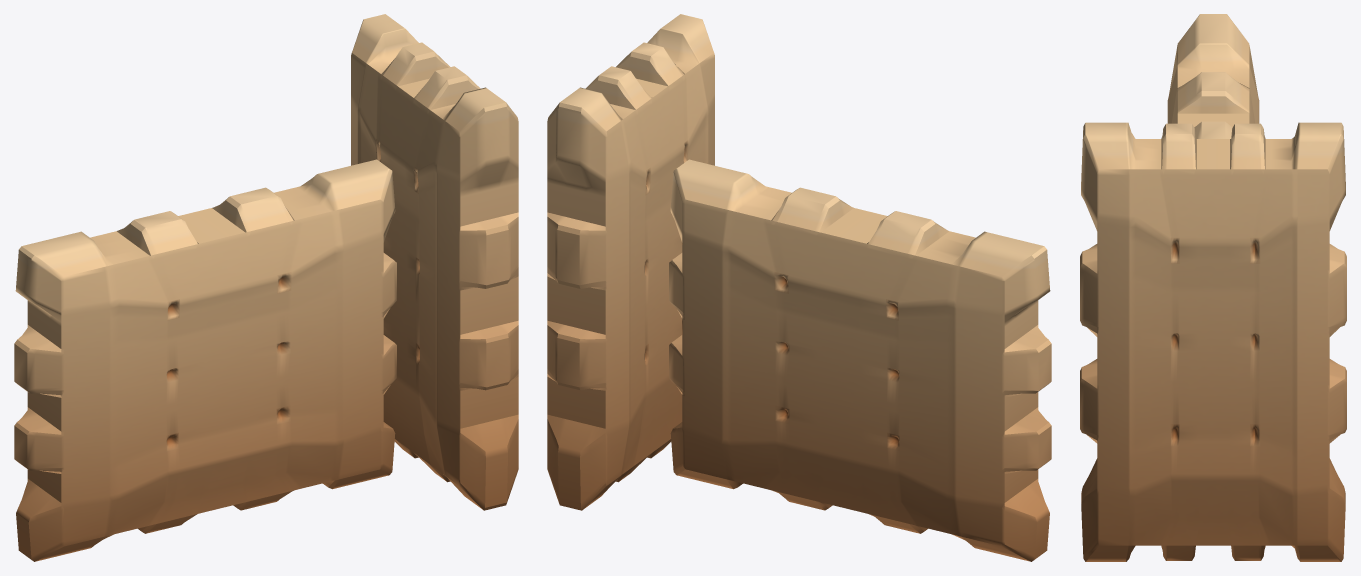
File: FencePart.fbx
3 views of the same model, side by side, from view 1: azimuth 30°, elevation 25°; view 2: azimuth 150°, elevation 25°; view 3: azimuth 270°, elevation 25° (orthographic). The views are drawn at different scales.
Visible parts, largest first — view 1: biscuit6, biscuit7; view 2: biscuit6, biscuit7; view 3: biscuit7, biscuit6.
Part boxes in pixels (box(x1,y1,x2,y2)): biscuit6: box(14, 159, 396, 561); biscuit7: box(351, 14, 518, 510); biscuit6: box(669, 159, 1051, 561); biscuit7: box(547, 14, 714, 510); biscuit7: box(1080, 122, 1346, 561); biscuit6: box(1167, 14, 1259, 138).
Bounding box in the file's own units: 1.75 × 1.49 × 0.844.
